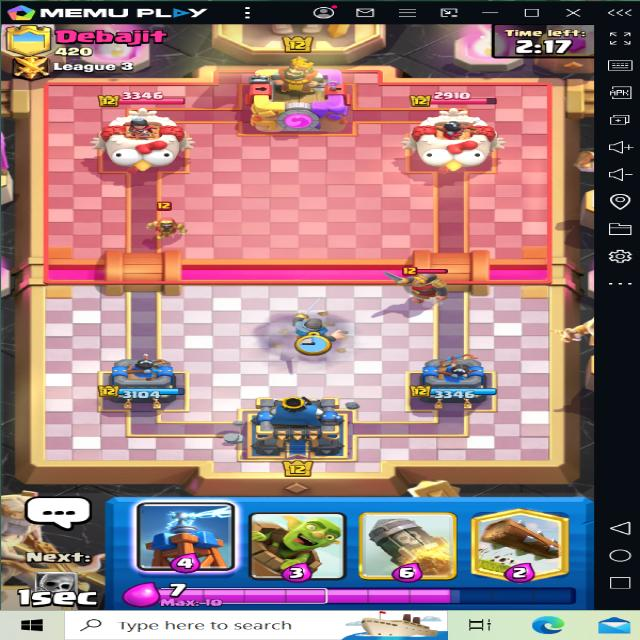knight: (378, 258, 455, 318)
wizard: (137, 195, 199, 242)
